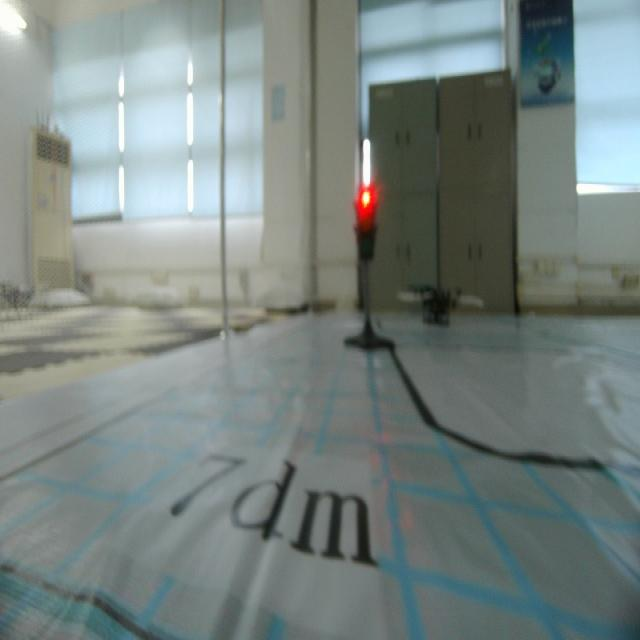red: (354, 183, 378, 265)
